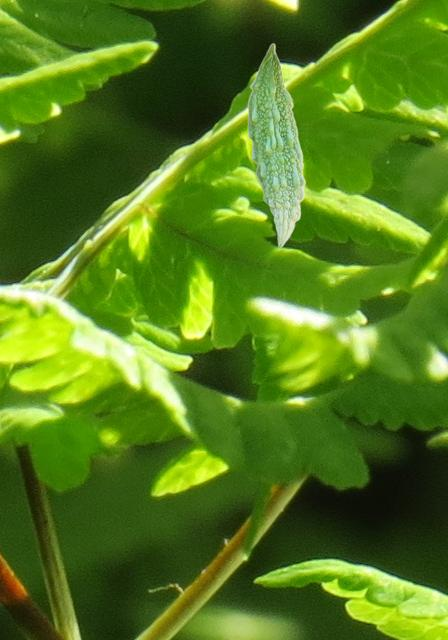ampalaya: (246, 42, 306, 248)
